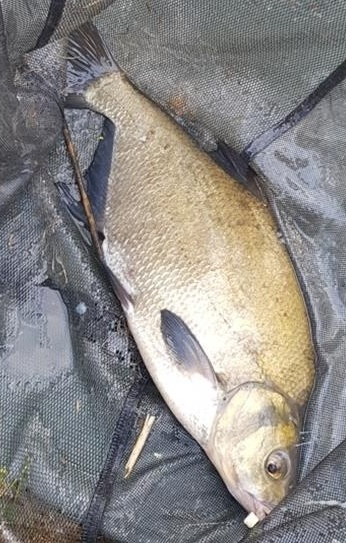Abramis brama: (20, 20, 326, 523)
